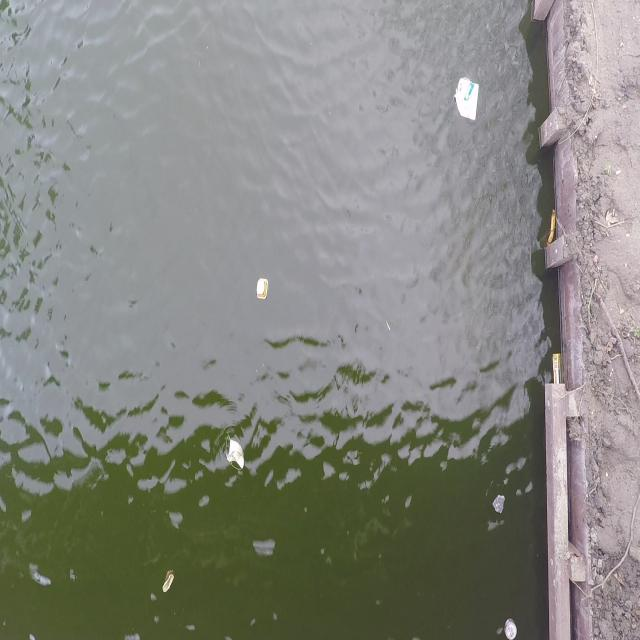Non plastique: (225, 430, 247, 476), (158, 568, 178, 601)
